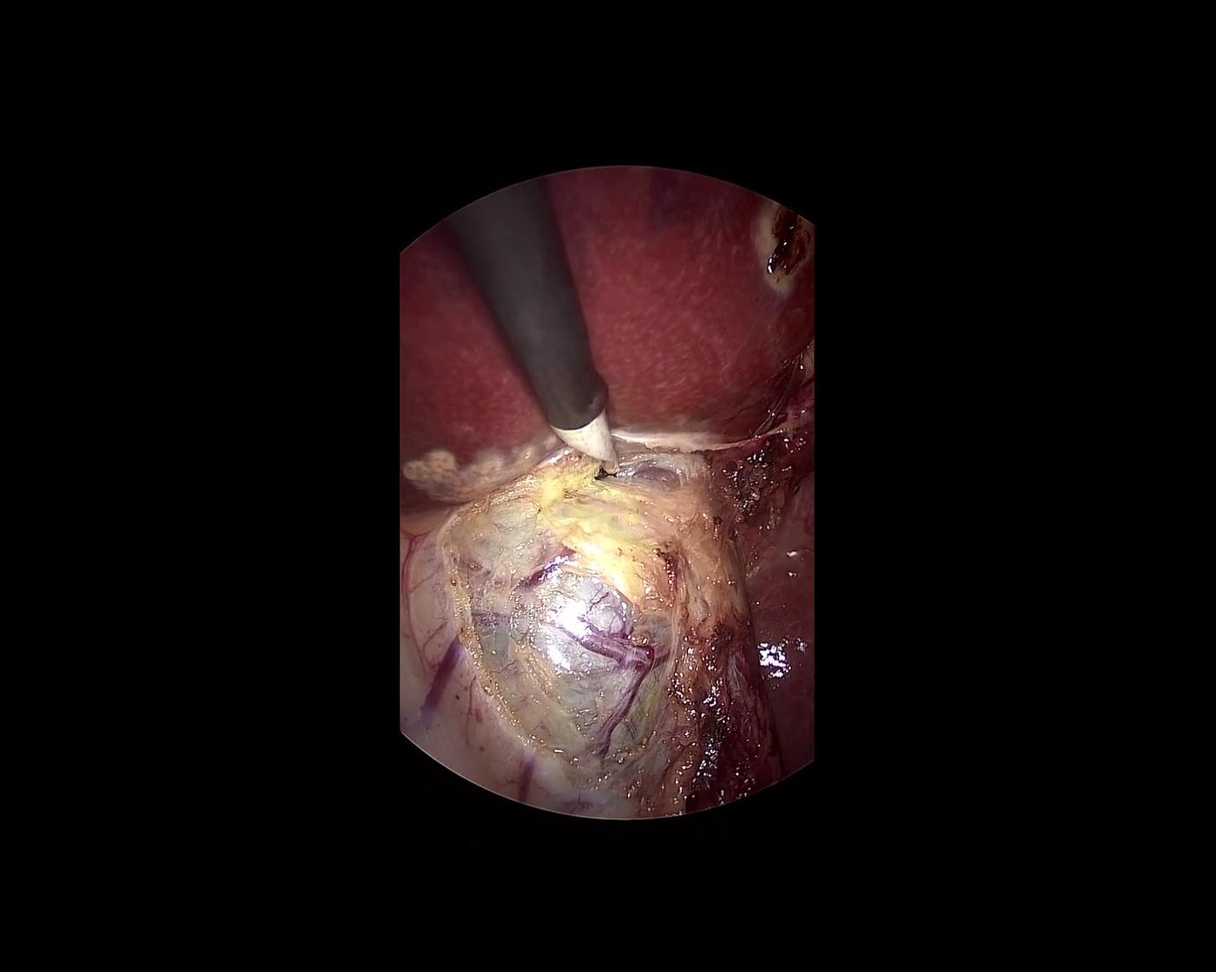Cautery: (437, 175, 632, 501)
Gallbladder: (355, 422, 785, 862)
Liver: (366, 145, 839, 508), (744, 472, 815, 772)
